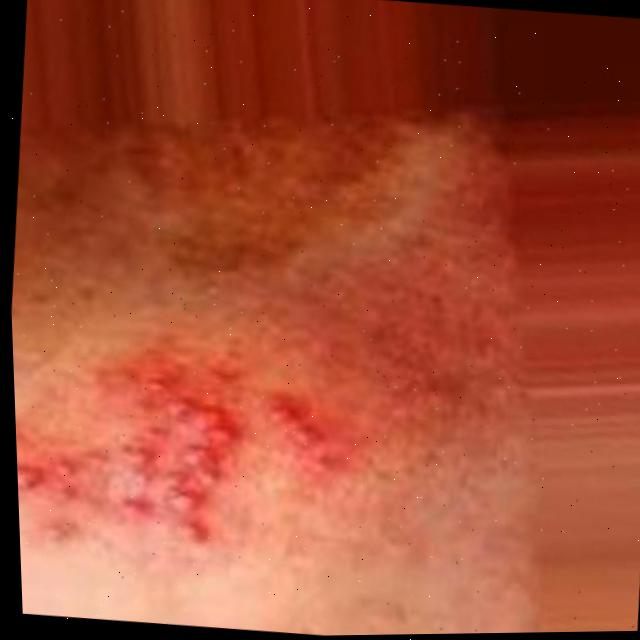Shingles: (14, 371, 249, 561), (268, 389, 335, 469)
